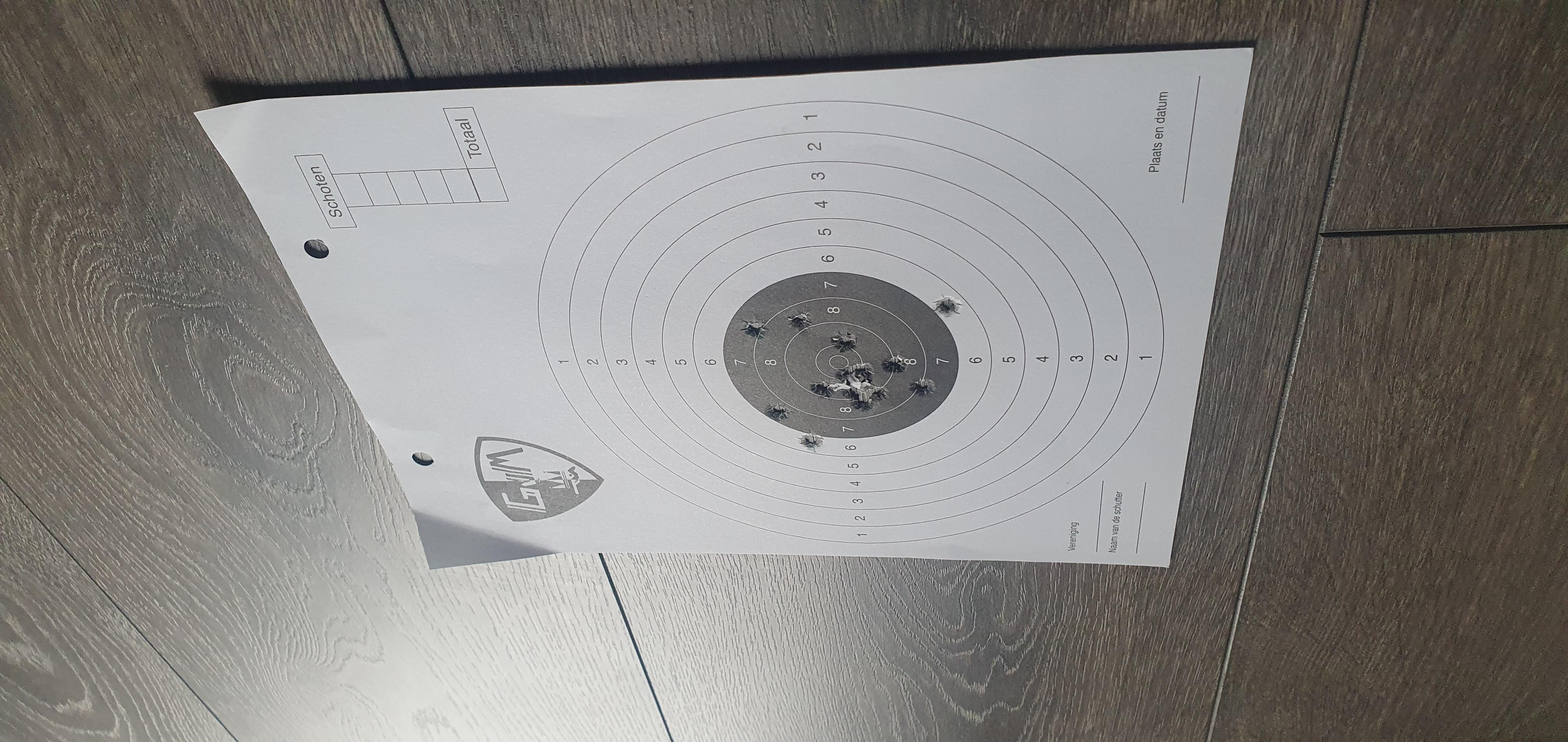hole: (801, 399, 830, 425), (604, 423, 635, 447), (775, 318, 803, 342), (710, 389, 738, 412), (753, 408, 782, 429), (631, 345, 659, 366), (662, 367, 686, 391), (742, 290, 768, 311), (733, 344, 758, 363), (694, 360, 714, 379), (711, 358, 732, 374), (695, 329, 713, 345), (681, 339, 699, 355)
